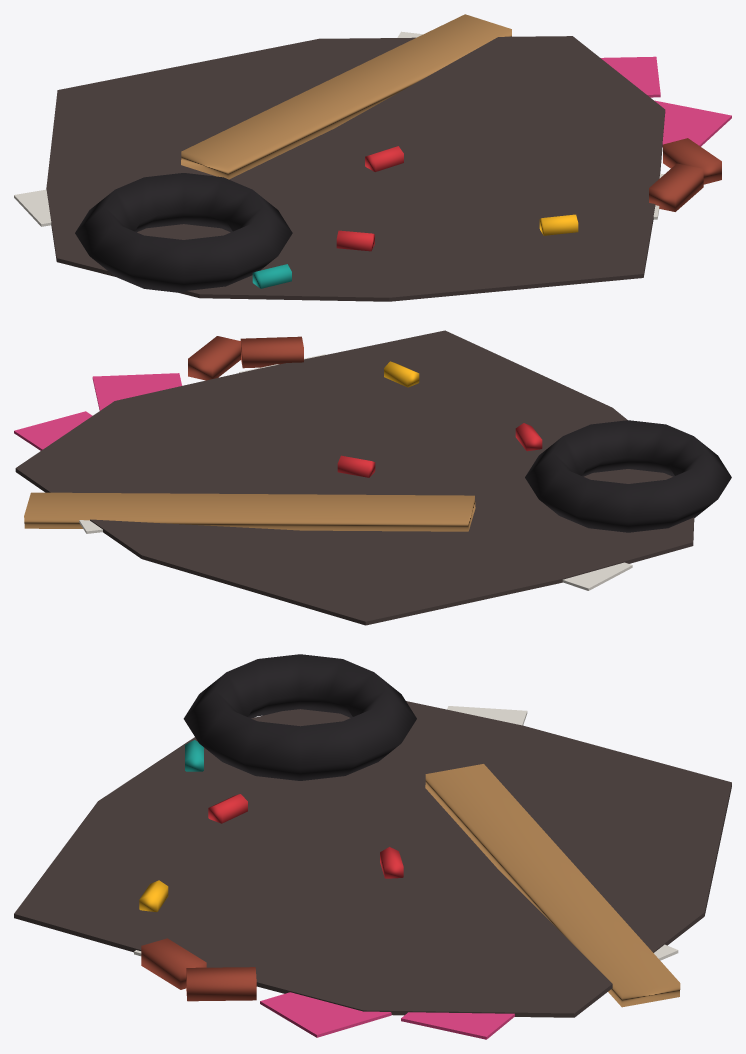
Rendered from city_debris.glb.
3 renders of one model, top to bottom at view 1: azimuth 30°, elevation 25°; view 2: azimuth 150°, elevation 25°; view 3: azimuth 270°, elevation 25°, orthographic. The views are drawn at different scales.
Parts seen in each view (by area): view 1: Debris; view 2: Debris; view 3: Debris.
Boxes of the visible parts, left/top/right/bottom form: Debris: left=14, top=14, right=731, bottom=301; Debris: left=14, top=330, right=731, bottom=625; Debris: left=14, top=654, right=731, bottom=1039.
Size of the model in its own units: 2.58 by 0.235 by 2.27.
